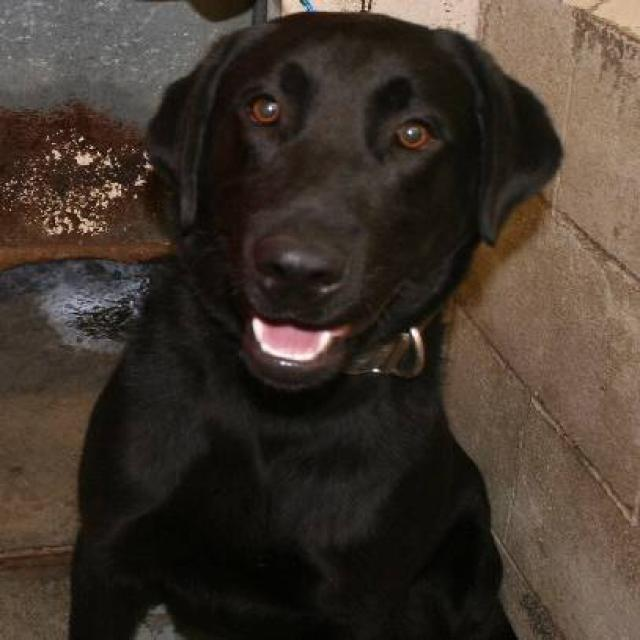Dog: (142, 9, 564, 400)
